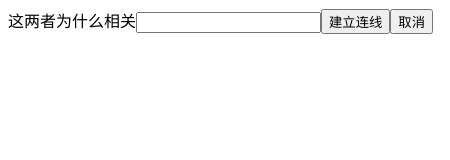
it: GraphEdgeDraft（连线 + 强制假设） › 服务端拒了（含 422 EMPTY_HYPOTHESIS）不谎报成功：出错误态且草稿还在
Type "有假设" into the field with test id "graph-edge-hypothesis-input".
click(228, 22); type("有假设")  # box [136,12,321,33]
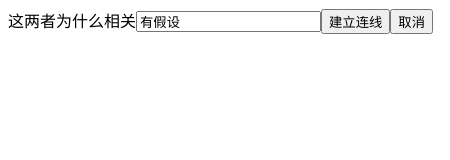
Click the button with test id "graph-edge-submit".
click(356, 22)  # box [321,9,390,34]
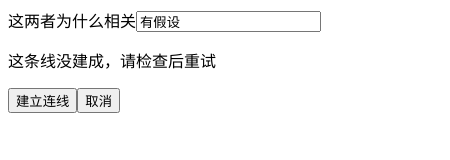
Check: the text "这条线没建成，请检查后重试" is shown, box [8,53,216,70]
